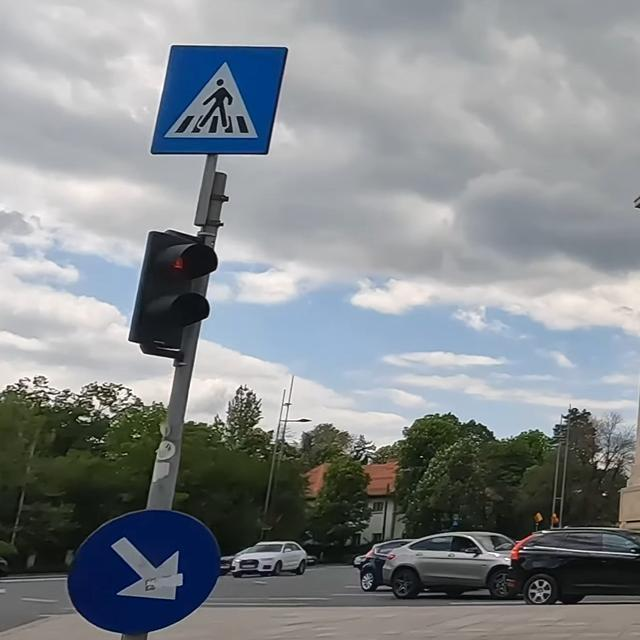info_crosswalk: (148, 43, 284, 154)
